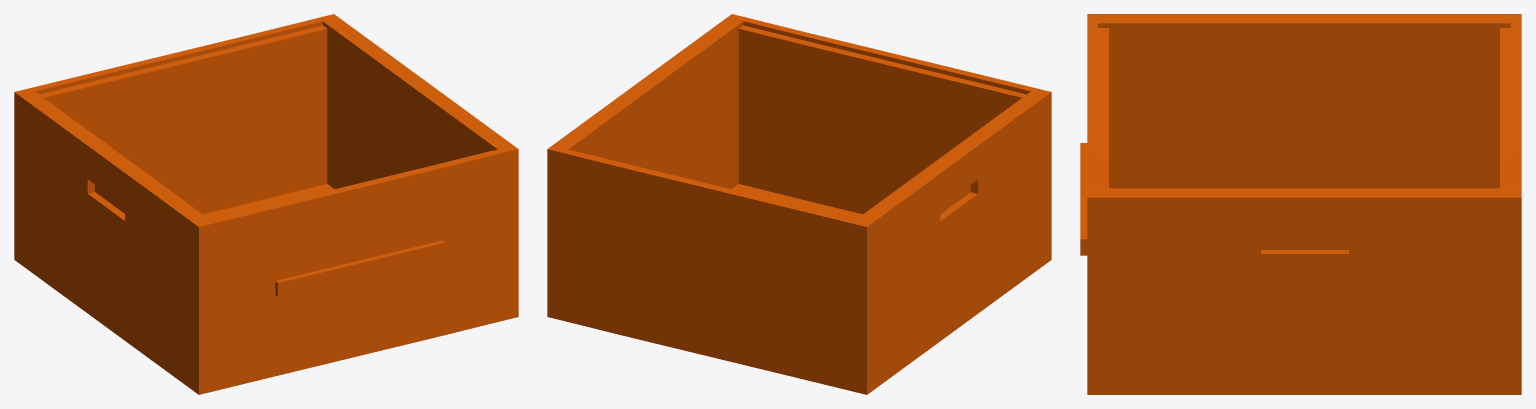
Rendered from StoreyEmpty.fbx.
3 renders of one model, left to right at view 1: azimuth 30°, elevation 25°; view 2: azimuth 150°, elevation 25°; view 3: azimuth 270°, elevation 25°, orthographic. The views are drawn at different scales.
Visible parts, largest first — view 1: StoreyEmpty; view 2: StoreyEmpty; view 3: StoreyEmpty.
Boxes of the visible parts, x1,y1,x2,y2 form: StoreyEmpty: [14, 14, 518, 394]; StoreyEmpty: [547, 14, 1051, 394]; StoreyEmpty: [1080, 14, 1521, 394].
Bounding box in the file's own units: 100 × 50.25 × 102.
